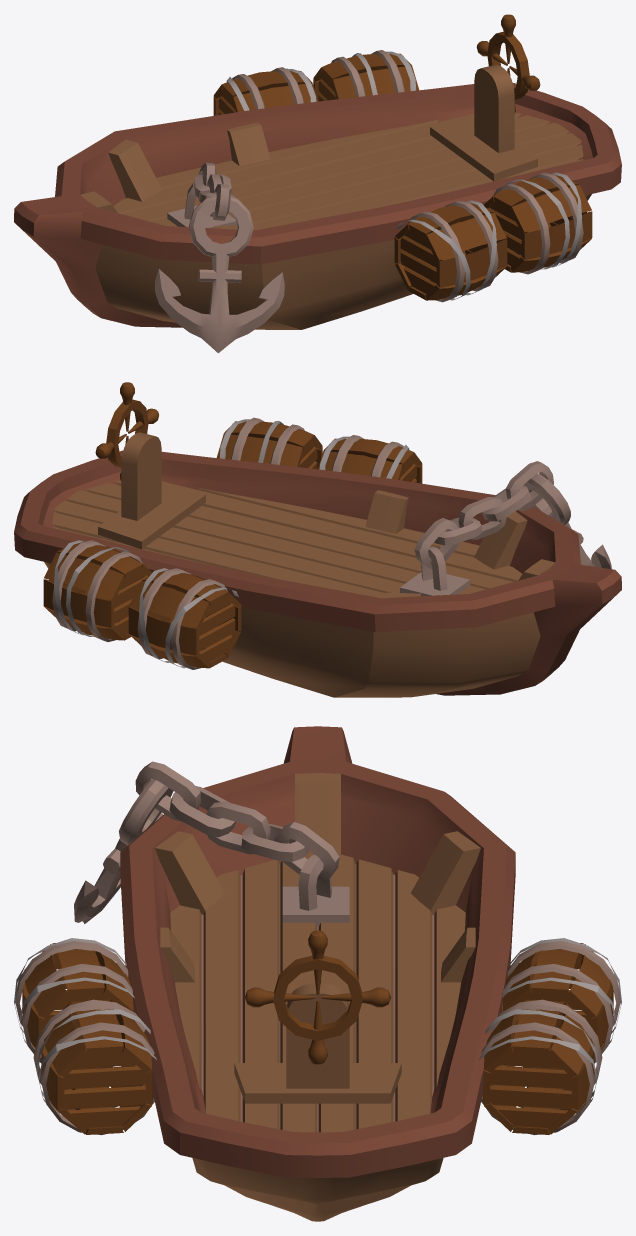
The model's file is quaternius-pirate-ship-small.glb.
The picture shows the model from 3 angles, top to bottom: view 1: azimuth 30°, elevation 25°; view 2: azimuth 150°, elevation 25°; view 3: azimuth 270°, elevation 25°; orthographic projection. The views are drawn at different scales.
Visible parts, largest first — view 1: Ship_Small; view 2: Ship_Small; view 3: Ship_Small.
Part boxes in pixels (bbox=[...]): Ship_Small: bbox=[14, 14, 621, 353]; Ship_Small: bbox=[14, 382, 621, 697]; Ship_Small: bbox=[14, 726, 621, 1221].
Size of the model in its own units: 5.15 by 1.99 by 3.6.
1 material, 1 textured.
